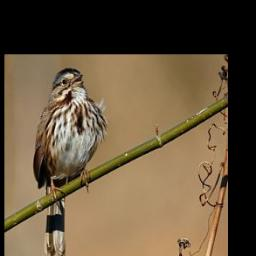Sparrow: (32, 67, 109, 256)
